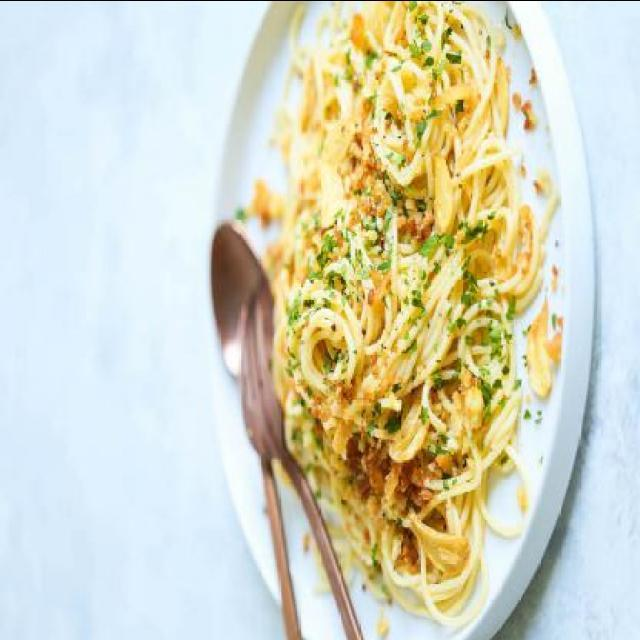Oil pasta: (211, 1, 558, 592)
